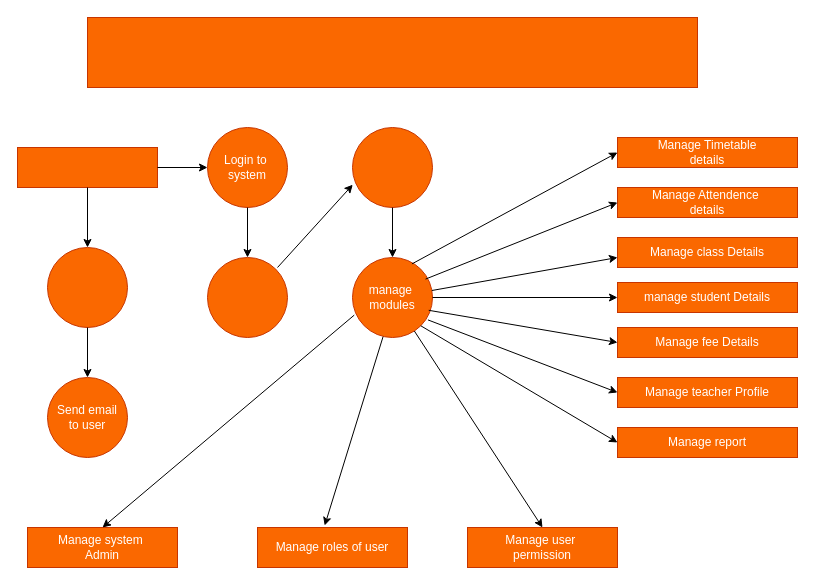
The diagram is 815 pixels wide and 585 high, and some of its shapes have lost their labels. Here are the shapes that lost their labels. From the top down, the centre of each, then its label:
At pixel 392 52: "Student information System".
At pixel 87 167: "Admin".
At pixel 392 167: "Check Roles of Access".
At pixel 87 287: "Forget Password".
At pixel 247 297: "Cheak credentials".
